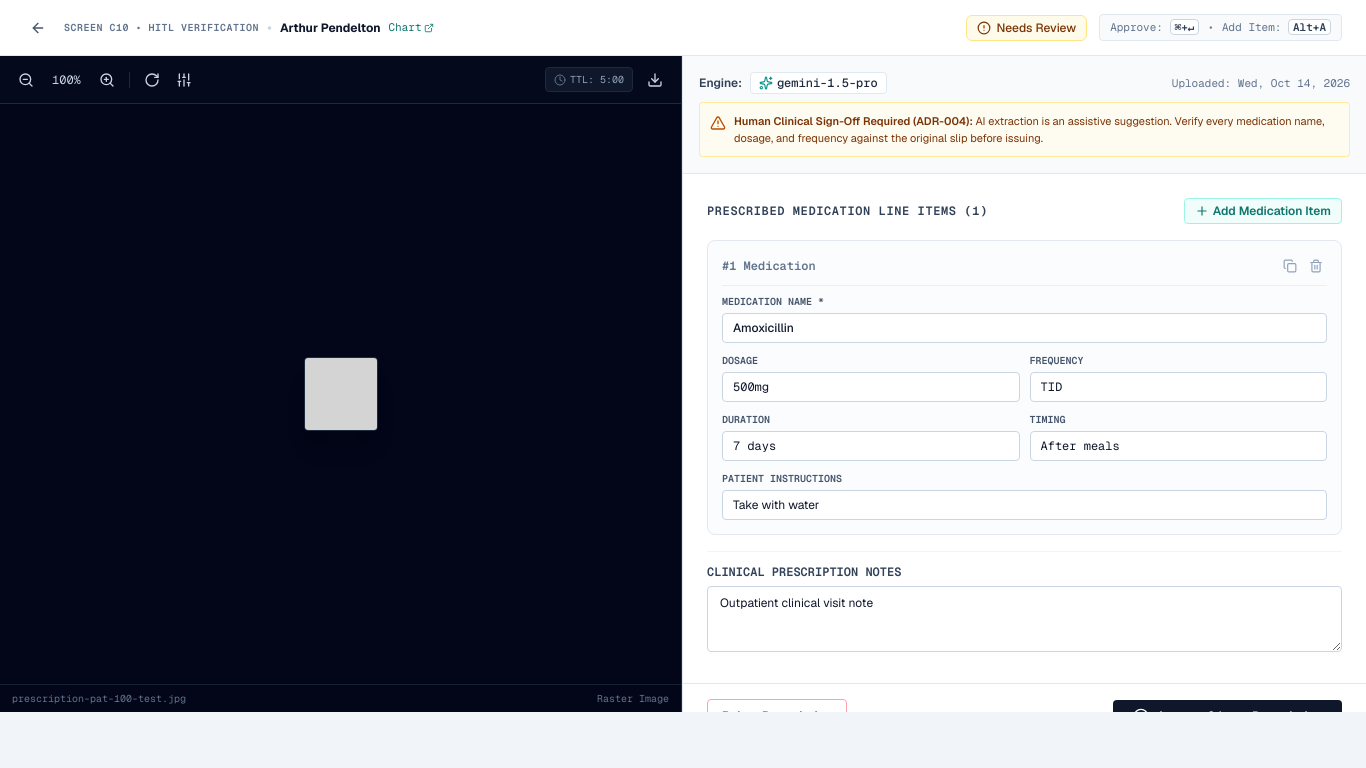
Test: PrescriptionReviewDetail Component (Screen C10) › refuses approval with 0 items when list is cleared
This screenshot has width=1366, height=768.
Check: the field showing "Amoxicillin" below "Medication Name *" is shown, box left=722, top=313, right=1327, bottom=343
// Remove the only item
Click the button titled "Remove item". click: (1316, 266)
box: left=1305, top=255, right=1327, bottom=277
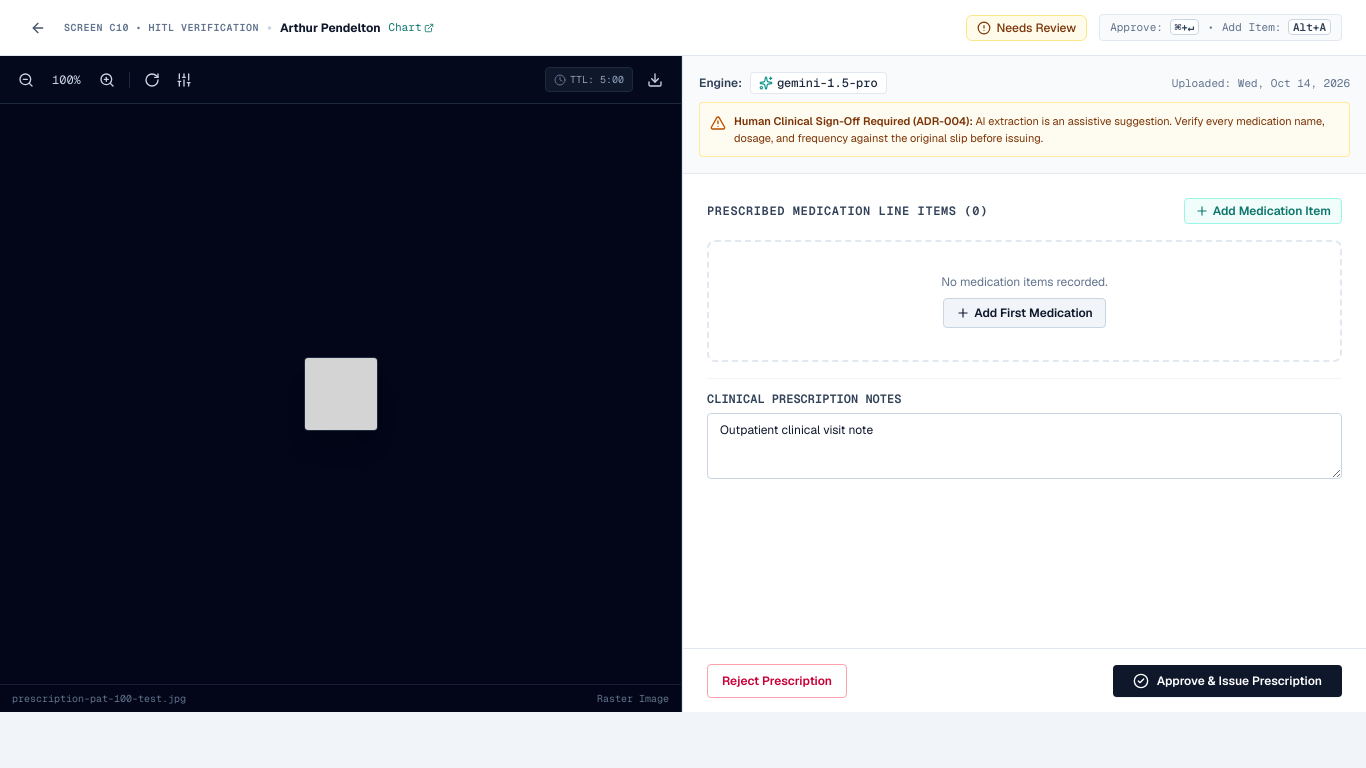
// Click Approve
Click the button "Approve & Issue Prescription". click: (1227, 680)
box: left=1113, top=664, right=1342, bottom=696
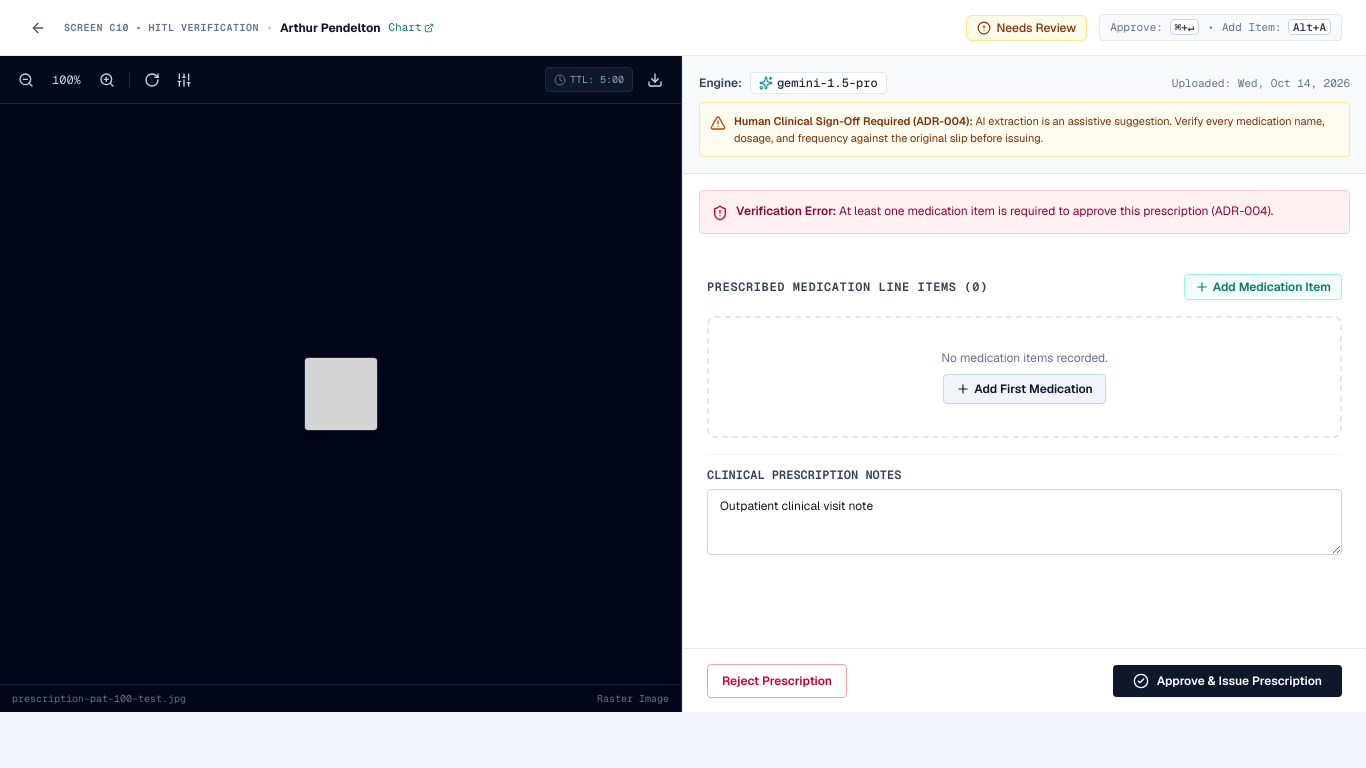
Check: the text "At least one medication item is required to approve this prescription" is shown, box left=839, top=203, right=1273, bottom=219
